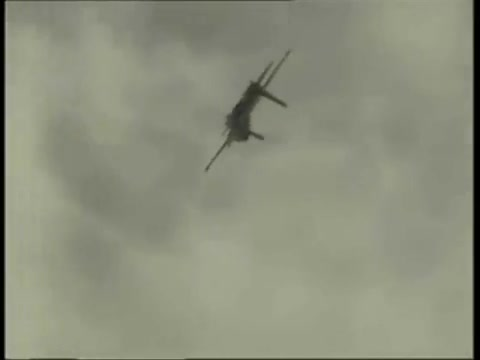aeroplane: (203, 47, 299, 174)
